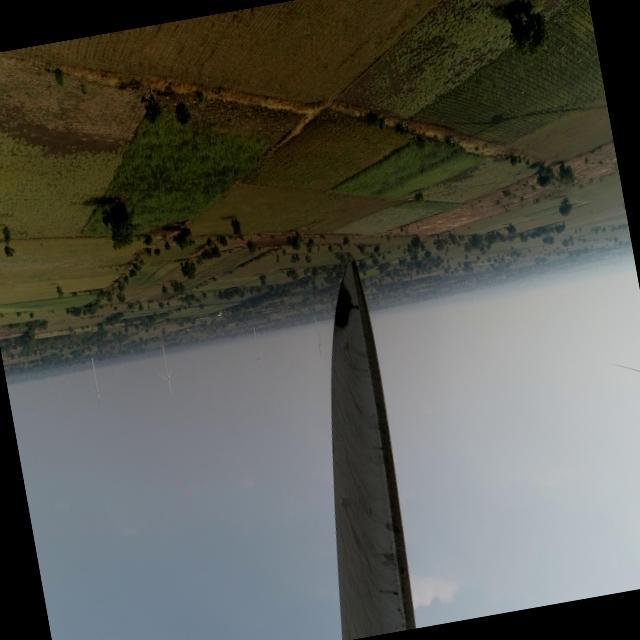Dirt: (332, 258, 416, 639), (0, 423, 9, 424)
Oil LEAKAGE: (336, 284, 365, 332)
